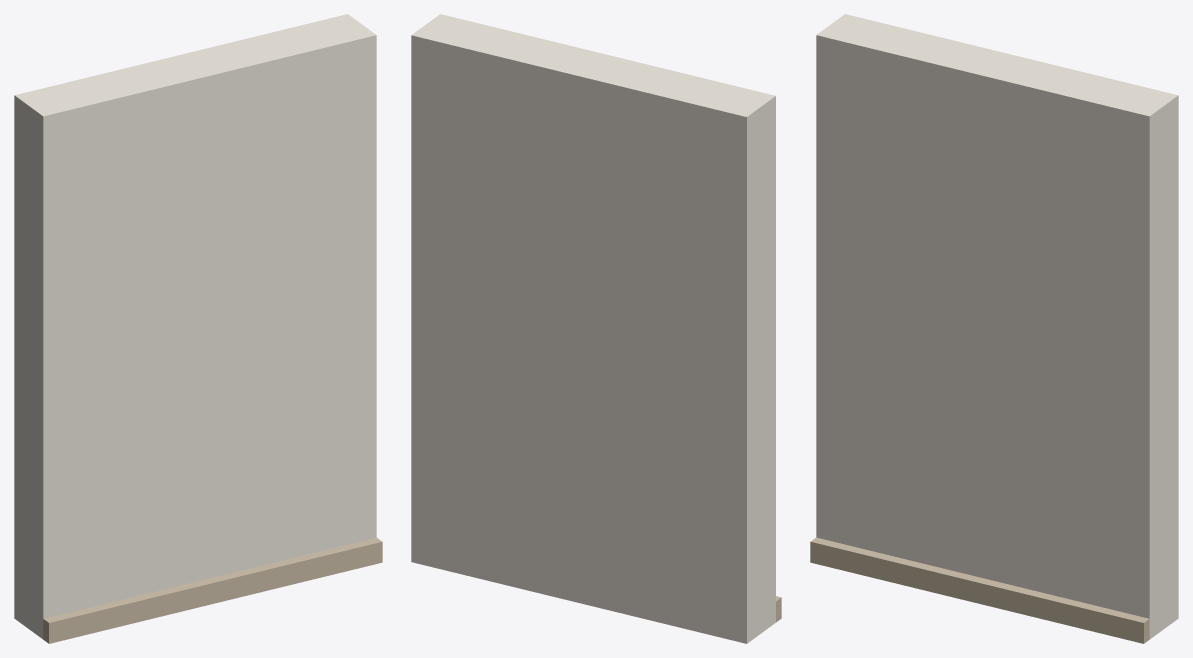
File: wall_plain.glb
The picture shows the model from 3 angles, left to right: view 1: azimuth 30°, elevation 25°; view 2: azimuth 150°, elevation 25°; view 3: azimuth 330°, elevation 25°; orthographic projection.
Visible parts, largest first — view 1: wall_plain; view 2: wall_plain; view 3: wall_plain.
Part boxes in pixels (x1,y1,x2,y2): wall_plain: (14,14,382,643); wall_plain: (411,14,781,643); wall_plain: (810,14,1178,643).
Bounding box in the file's own units: 2 × 3 × 0.36.
Materials: 2 (2 with a texture image).
